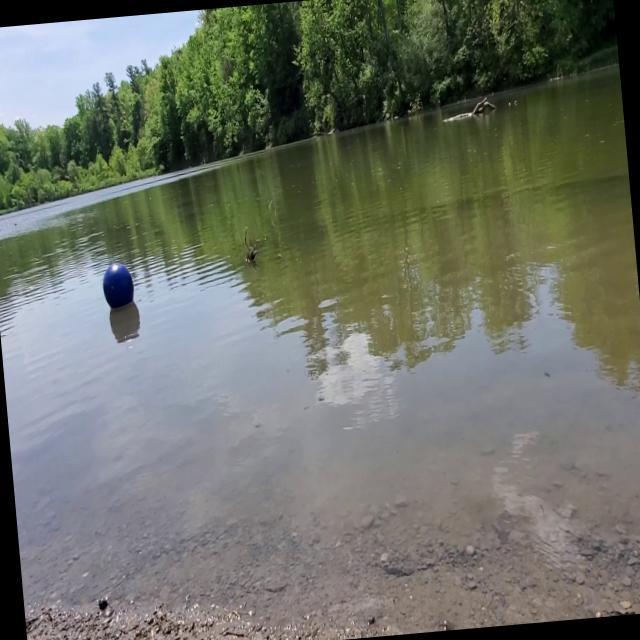buoy: (98, 254, 136, 316)
